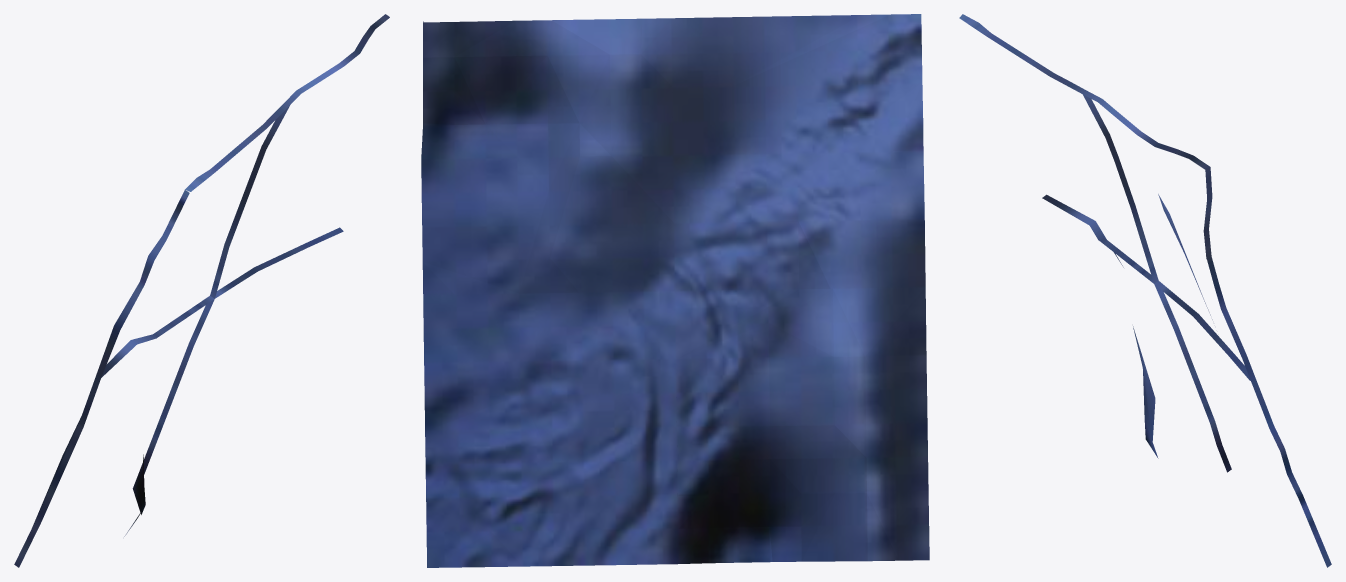
3 renders of one model, left to right at view 1: azimuth 30°, elevation 25°; view 2: azimuth 150°, elevation 25°; view 3: azimuth 270°, elevation 25°, orthographic. The views are drawn at different scales.
Bounding box in the file's own units: 19158 × 19204 × 14956.
Materials: 1 (1 with a texture image).
